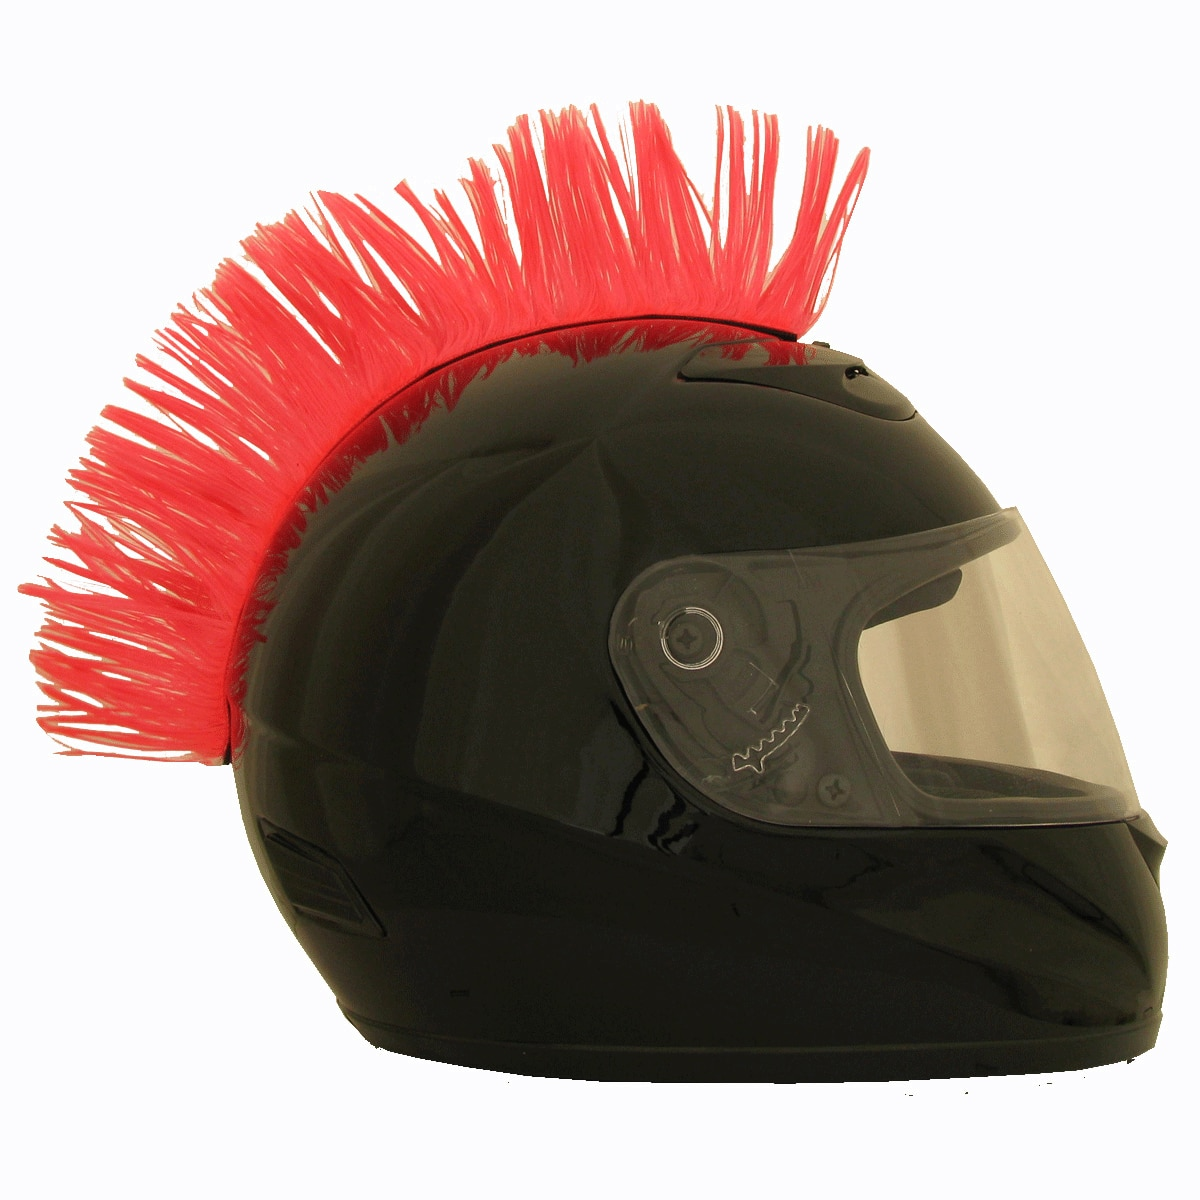with_helmet: (25, 66, 1182, 1121)
